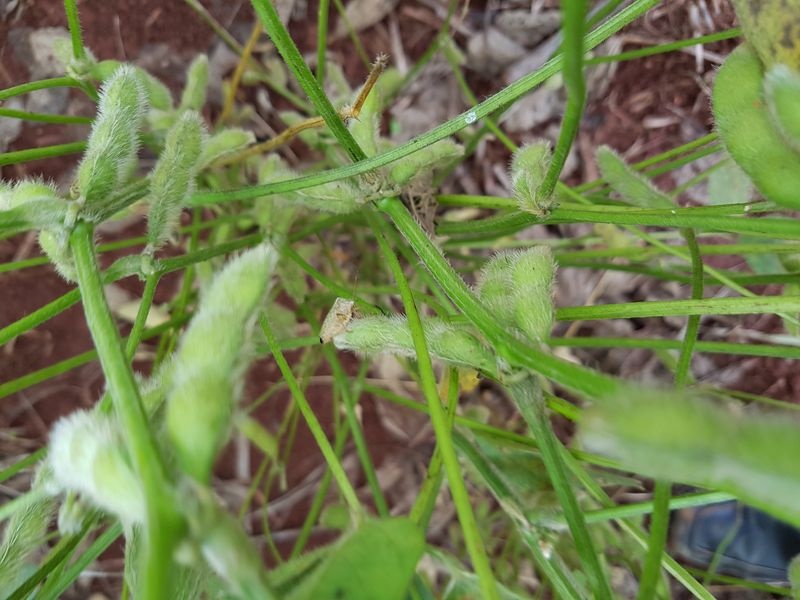Edessa_meditabunda: (303, 275, 379, 356)
